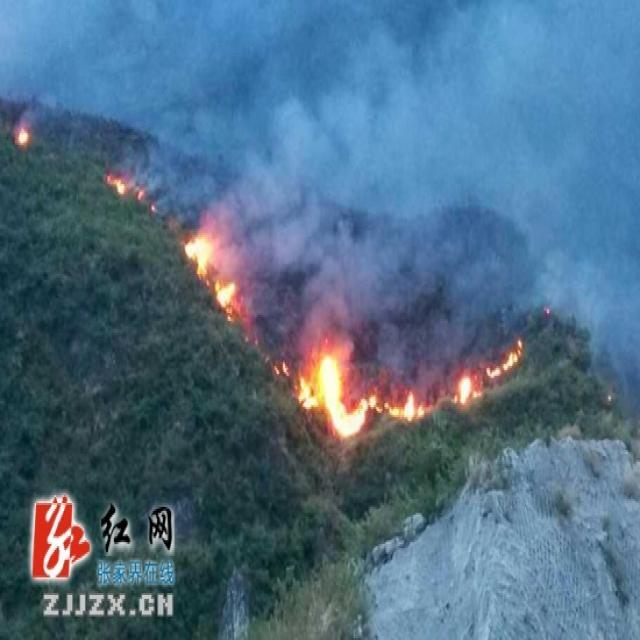Fire: (298, 328, 427, 438), (182, 233, 240, 325), (450, 338, 522, 406), (107, 170, 144, 202), (273, 360, 290, 376), (18, 125, 30, 147)
Smoke: (1, 2, 640, 405)
